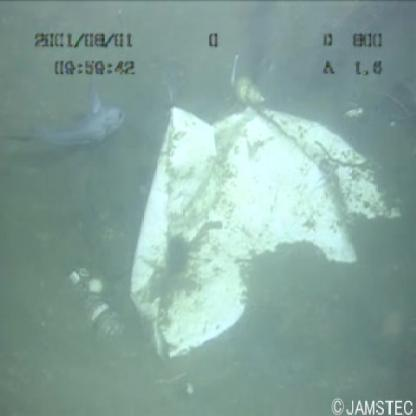Bio: (5, 85, 127, 158), (229, 59, 285, 118)
Rác: (126, 81, 403, 369)
